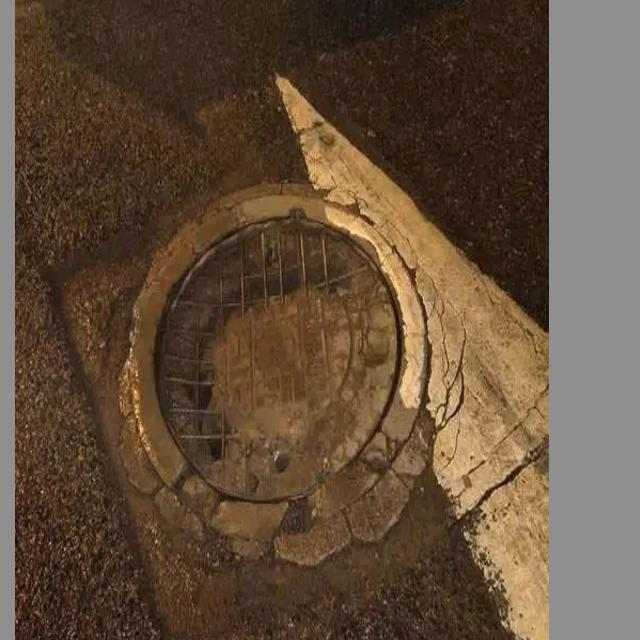circle: (65, 145, 510, 640)
